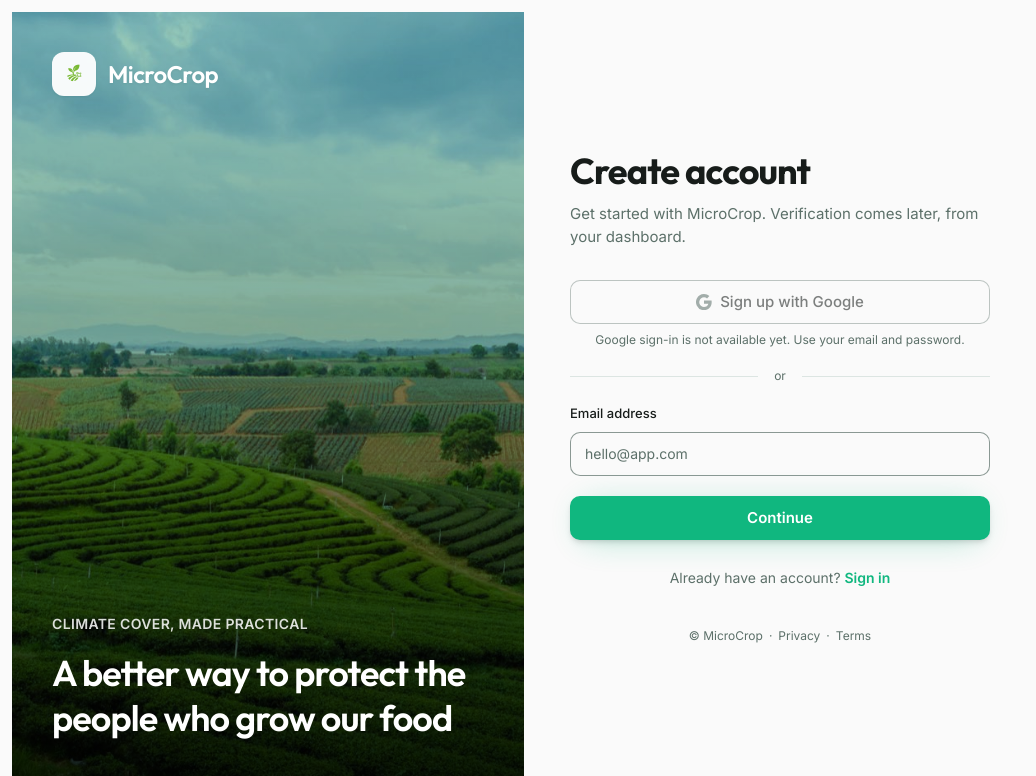
Test case: step two — details › says where the deferred KYB details are collected instead
Step 1. Type "admin@acme.coop" into the field labelled "Email address" → (780, 454), box [570, 432, 990, 476]
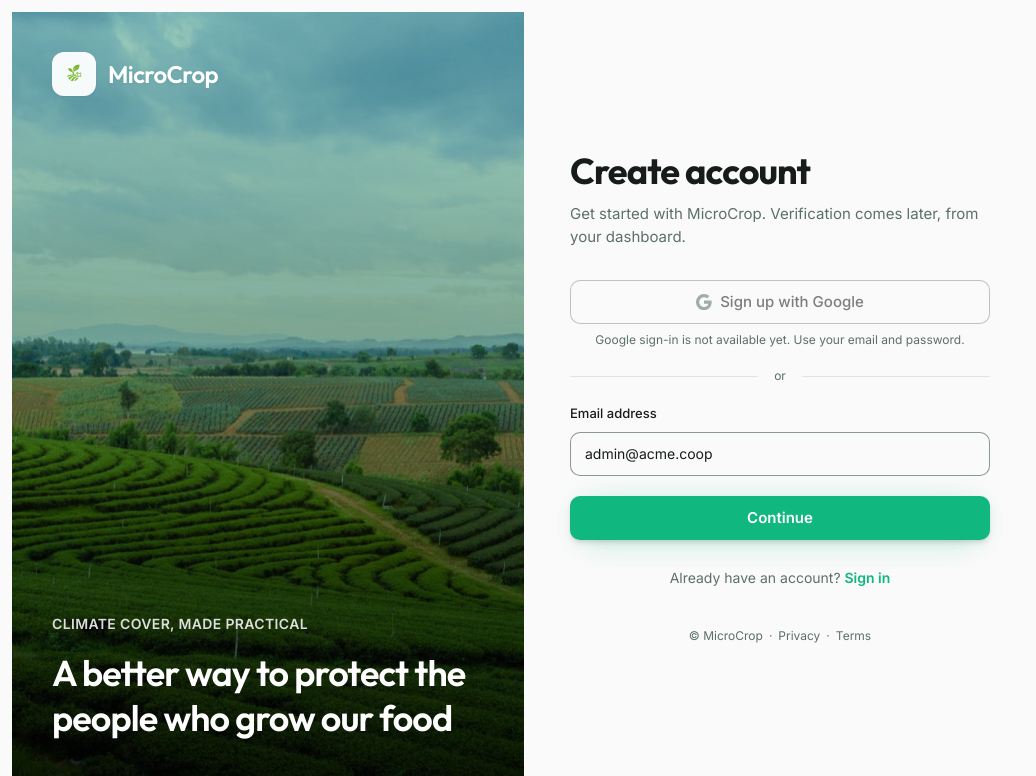
Step 2. Click the button "Continue" → (780, 518), box [570, 496, 990, 540]
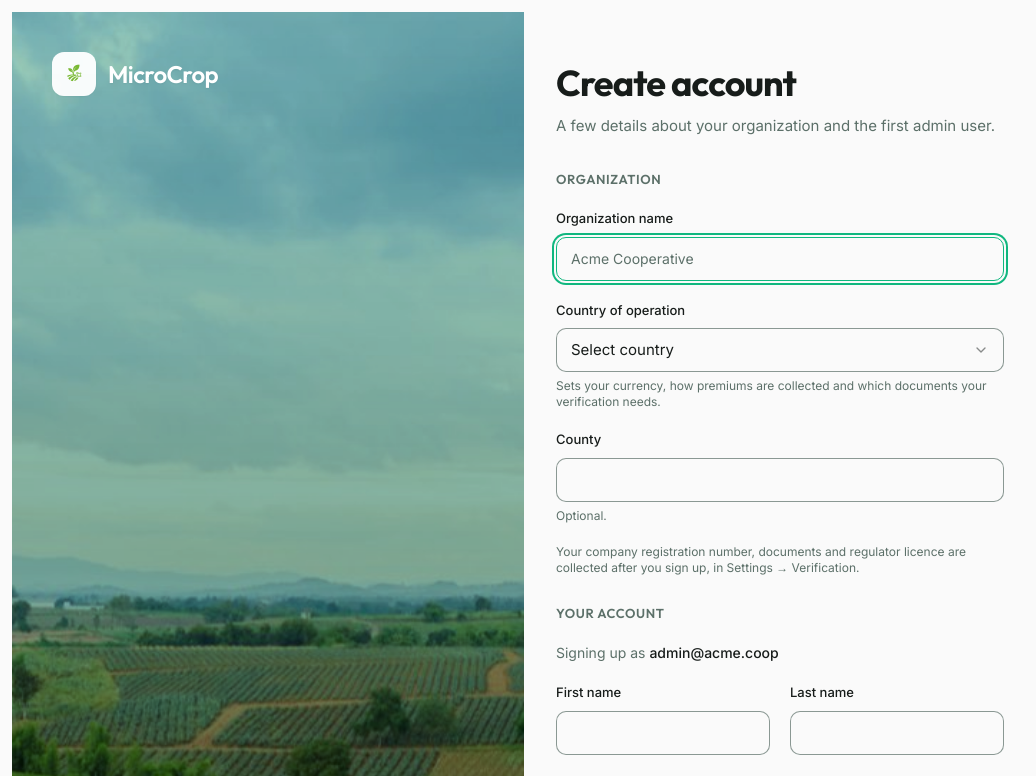
Check: the text "registration number" is shown, box [556, 544, 966, 574]
